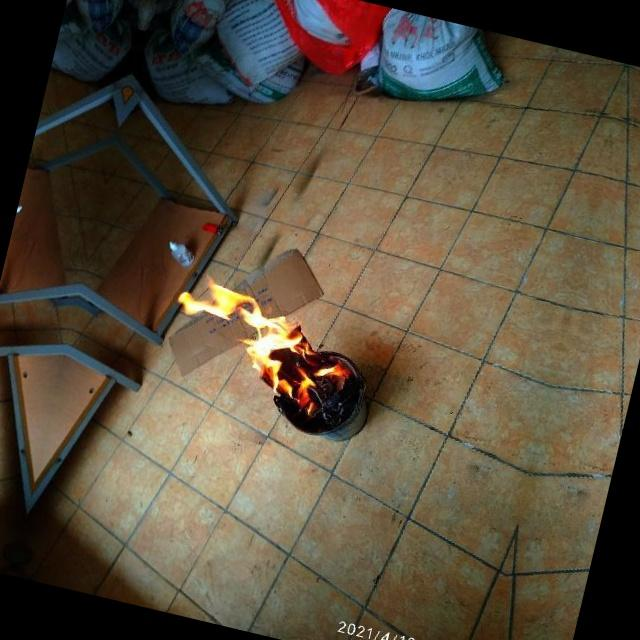fire: (170, 262, 367, 426)
